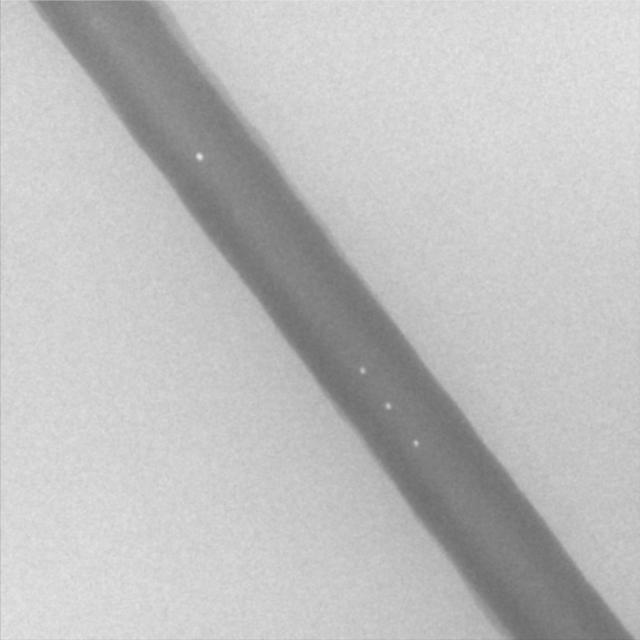air hole: (194, 151, 204, 162), (358, 364, 366, 375), (384, 400, 392, 410), (412, 439, 419, 447)
